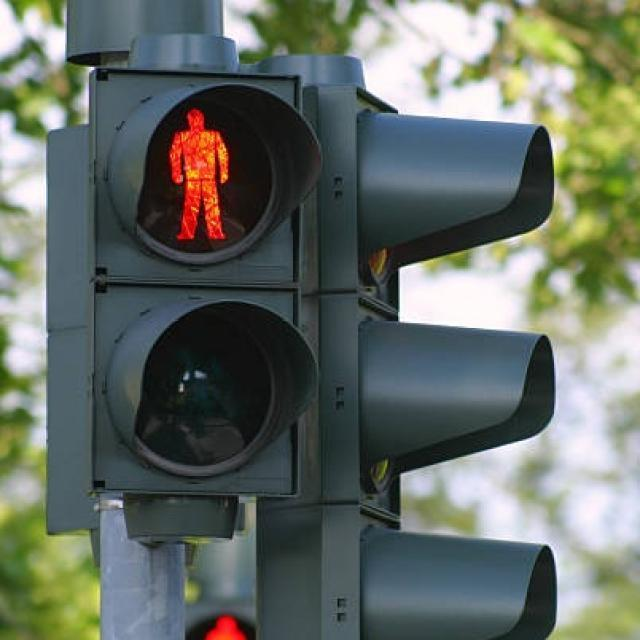red-crossing: (156, 90, 242, 252)
